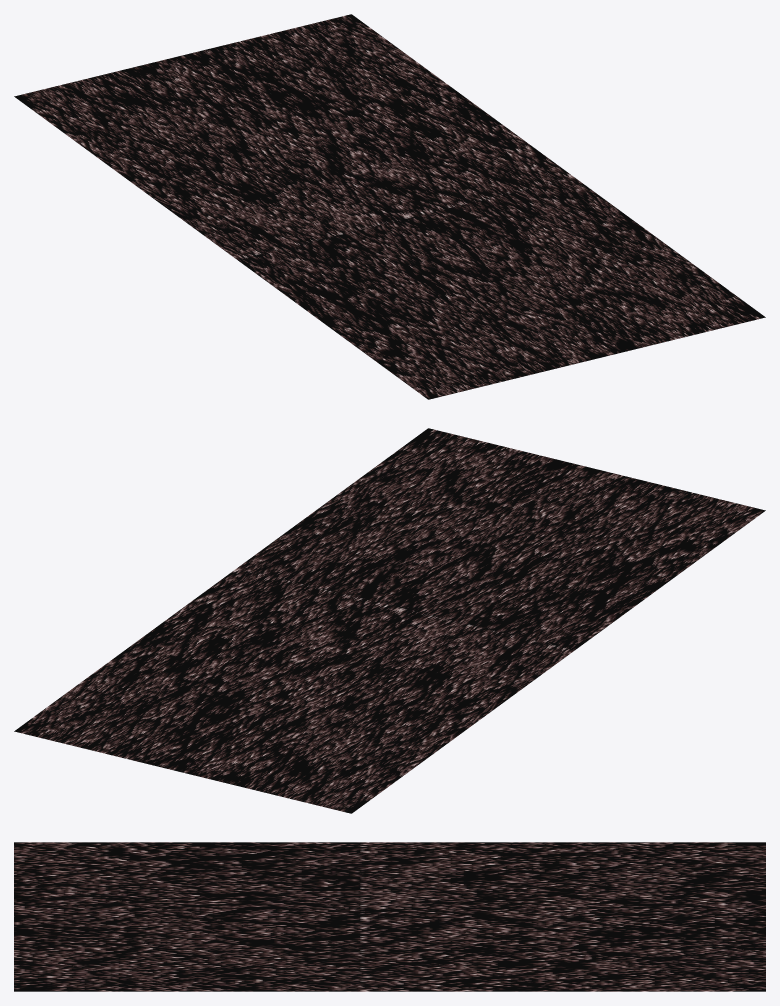
File: MudDecal4.FBX
3 views of the same model, one above another, from view 1: azimuth 30°, elevation 25°; view 2: azimuth 150°, elevation 25°; view 3: azimuth 270°, elevation 25° (orthographic). The views are drawn at different scales.
Visible parts, largest first — view 1: Plane001; view 2: Plane001; view 3: Plane001.
Part boxes in pixels (x1=…): Plane001: x1=14, y1=14, x2=765, y2=399; Plane001: x1=14, y1=428, x2=765, y2=813; Plane001: x1=14, y1=842, x2=765, y2=991.
Bounding box in the file's own units: 81.76 × 1.06e-14 × 174.
Materials: 1 (1 with a texture image).
